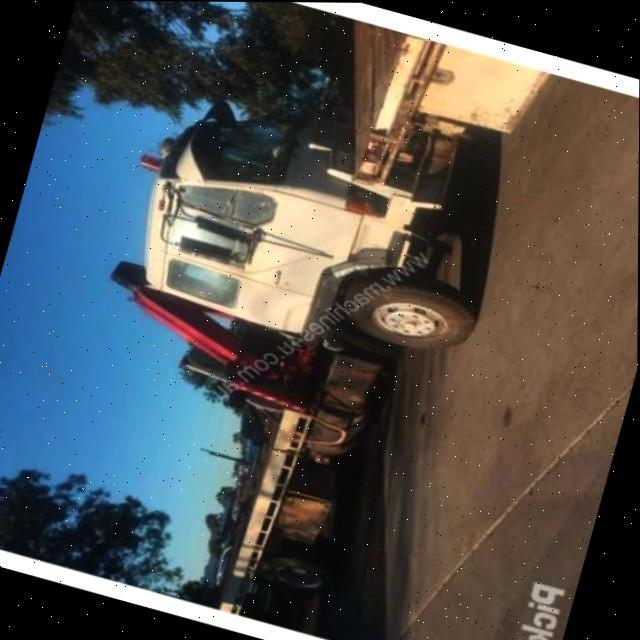truck: (28, 50, 530, 640)
